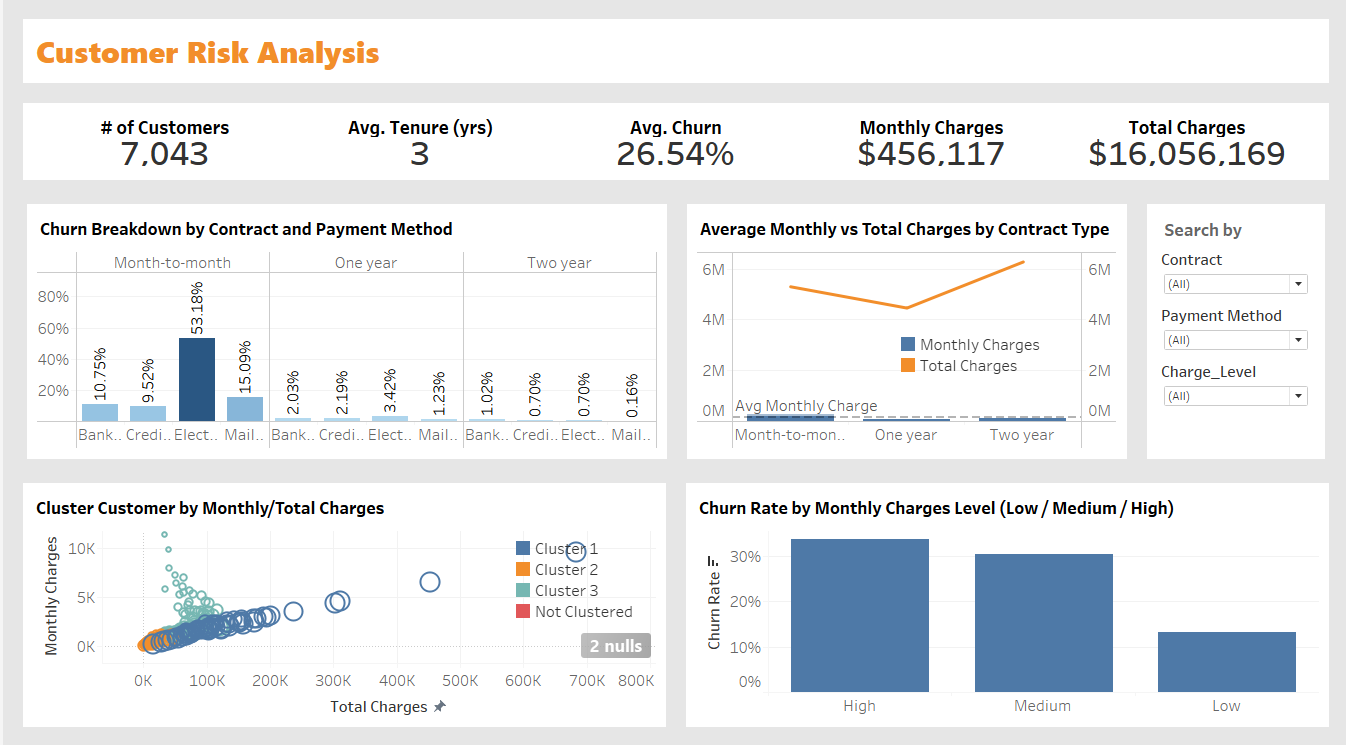

The page's visual inventory and layout, read from the dashboard file:
{"tool":"tableau","page":{"name":"Customer Risk Analysis","canvas":[1366,768],"ordinal":1},"visuals":[{"type":"title","box":[20,20,1326,84]},{"type":"image","param":"C:/Users/tranv/AppData/Local/Temp/TableauTemp/0418tiz1odotrn163d0co0quemnf/Sheet","box":[1261,35,66,50]},{"type":"worksheet","title":"KPIs_D2","mark":"Automatic","box":[40,124,1286,56.7]},{"type":"worksheet","title":"Drilldown_Contract_Payment","mark":"Automatic","rows":["Churn"],"cols":["Contract","PaymentMethod"],"box":[24,204.7,660,275.3]},{"type":"worksheet","title":"Combo_Chart_Contract","mark":"Automatic","rows":["MonthlyCharges","TotalCharges"],"cols":["Contract"],"box":[684,204.7,460,275.3]},{"type":"text","box":[1164,224.7,158,31]},{"type":"filter","title":"Drilldown_Contract_Payment","param":"[federated.0kbjv7s0e7rymg1ahm09y08gfm4k].[none:Contract:nk]","box":[1164,255.7,158,56]},{"type":"filter","title":"Drilldown_Contract_Payment","param":"[federated.0kbjv7s0e7rymg1ahm09y08gfm4k].[none:PaymentMethod:nk]","box":[1164,311.7,158,56]},{"type":"legend","title":"Combo_Chart_Contract","param":"[federated.0kbjv7s0e7rymg1ahm09y08gfm4k].[:Measure Names]","box":[905,323,165,80]},{"type":"filter","title":"What_If_MonthlyCharges_vs_Churn","param":"[federated.0kbjv7s0e7rymg1ahm09y08gfm4k].[none:Calculation_783626401844510721:nk","box":[1164,367.7,158,56]},{"type":"worksheet","title":"Customer_Clusters","mark":"Automatic","rows":["MonthlyCharges"],"cols":["TotalCharges"],"box":[20,484,663,264]},{"type":"worksheet","title":"What_If_MonthlyCharges_vs_Churn","mark":"Automatic","rows":["Churn"],"cols":["Calculation_783626401844510721"],"box":[683,484,663,264]},{"type":"legend","title":"Customer_Clusters","param":"[federated.0kbjv7s0e7rymg1ahm09y08gfm4k].[none:AdhocCluster:2:ok]","box":[520,549,134,89]}]}

Visuals, with their boxes in screenshot pixels (x1, y1, x2, y2), scaled from the page's 1366x768 canvas onto the 1346x745 screenshot:
title: locate(20, 19, 1326, 101)
image: locate(1243, 34, 1308, 82)
"KPIs_D2" worksheet: locate(39, 120, 1307, 175)
"Drilldown_Contract_Payment" worksheet: locate(24, 199, 674, 466)
"Combo_Chart_Contract" worksheet: locate(674, 199, 1127, 466)
text: locate(1147, 218, 1303, 248)
"Drilldown_Contract_Payment" filter: locate(1147, 248, 1303, 302)
"Drilldown_Contract_Payment" filter: locate(1147, 302, 1303, 357)
"Combo_Chart_Contract" legend: locate(892, 313, 1054, 391)
"What_If_MonthlyCharges_vs_Churn" filter: locate(1147, 357, 1303, 411)
"Customer_Clusters" worksheet: locate(20, 470, 673, 726)
"What_If_MonthlyCharges_vs_Churn" worksheet: locate(673, 470, 1326, 726)
"Customer_Clusters" legend: locate(512, 533, 644, 619)
